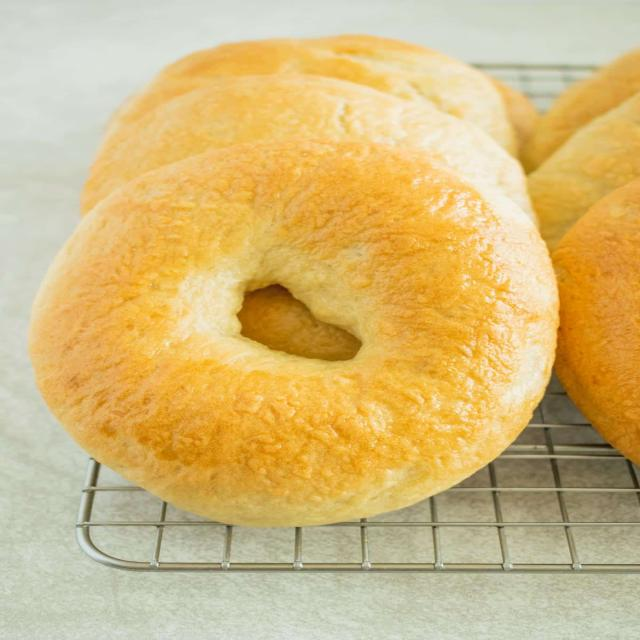Bagel: (30, 140, 558, 526)
